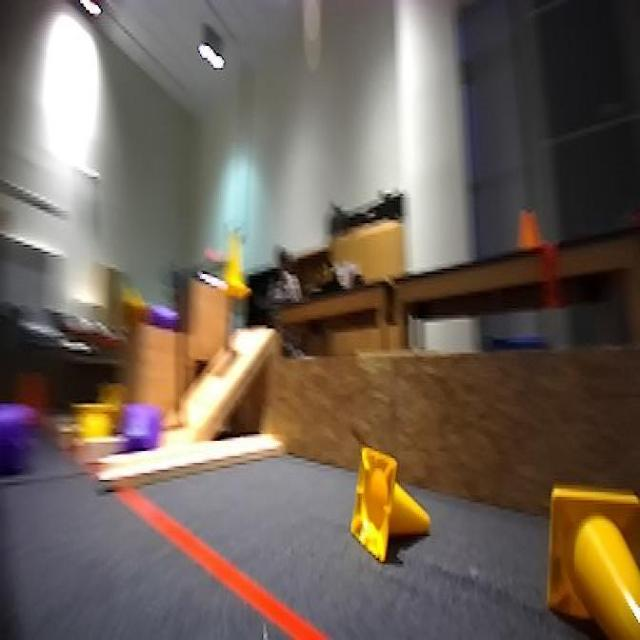frc_cone: (539, 490, 640, 640), (350, 444, 415, 560), (222, 232, 253, 300), (72, 400, 118, 444)
frc_cube: (0, 398, 34, 471), (121, 398, 154, 451), (140, 291, 177, 334)
